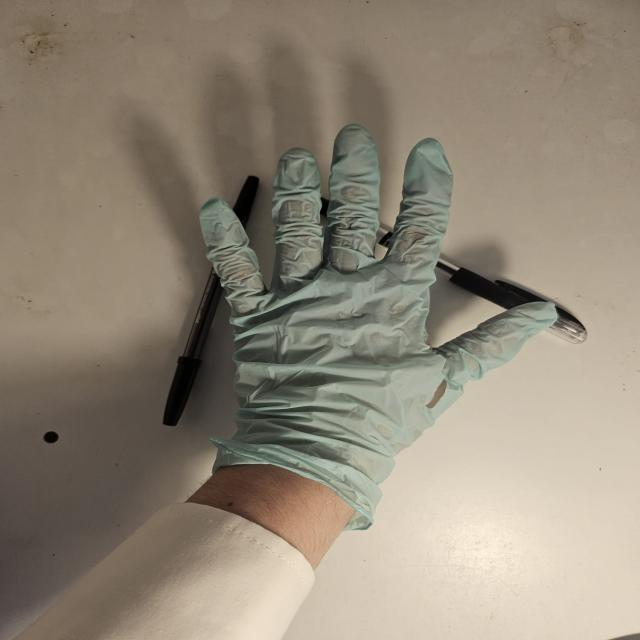gloves_damaged: (190, 116, 560, 537)
